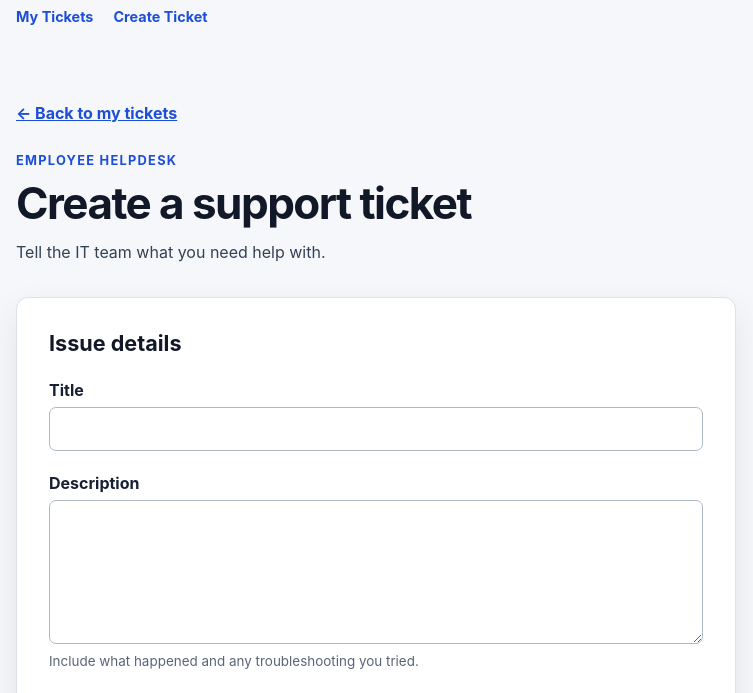
Test case: employee ticket creation › sends the expected payload and displays the successful result
Type "VPN unavailable" into the field labelled "Title".
click(376, 430); type("VPN unavailable")  # box [49, 408, 703, 452]
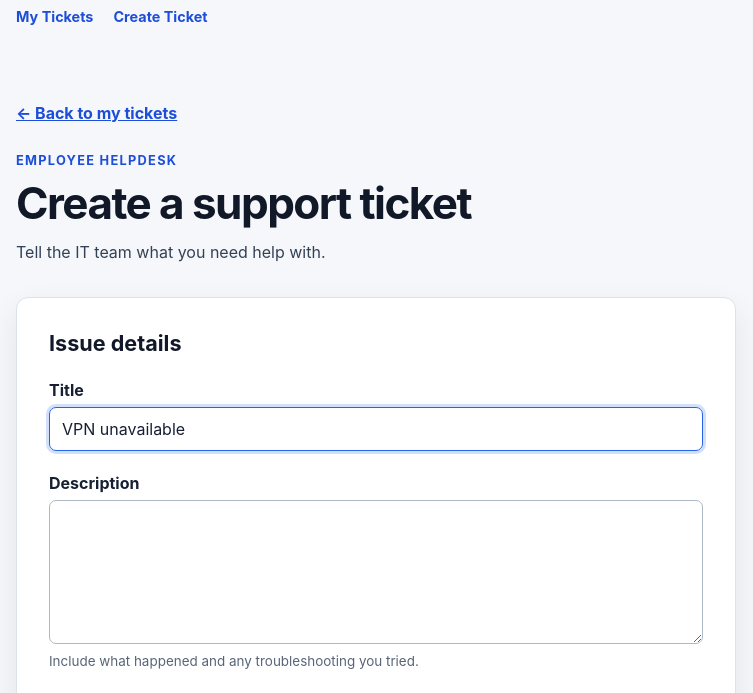
Type "The VPN client times out." into the text box labelled "Description".
click(376, 572); type("The VPN client times out.")  # box [49, 500, 703, 644]
(page scrolled)
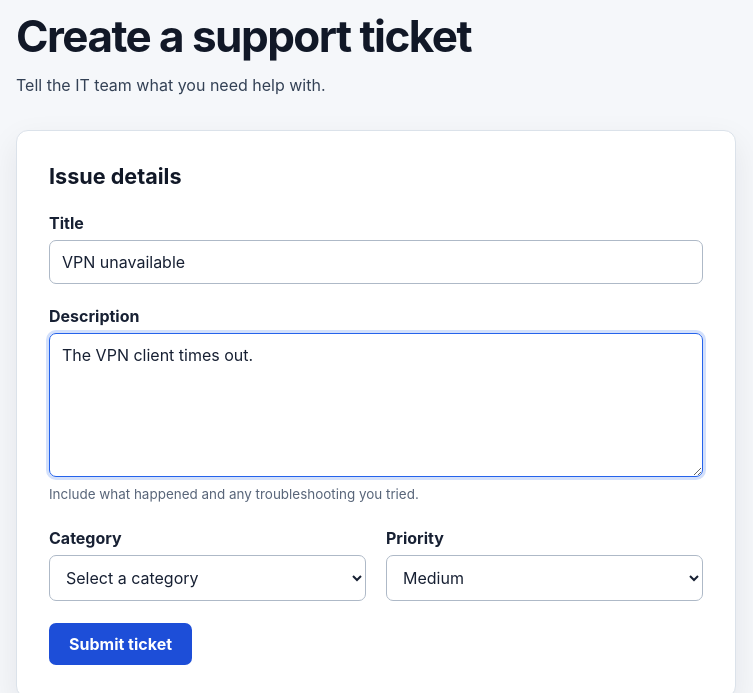
Select "Network" in the dropdown labelled "Category" at (208, 578), box [49, 555, 366, 601]
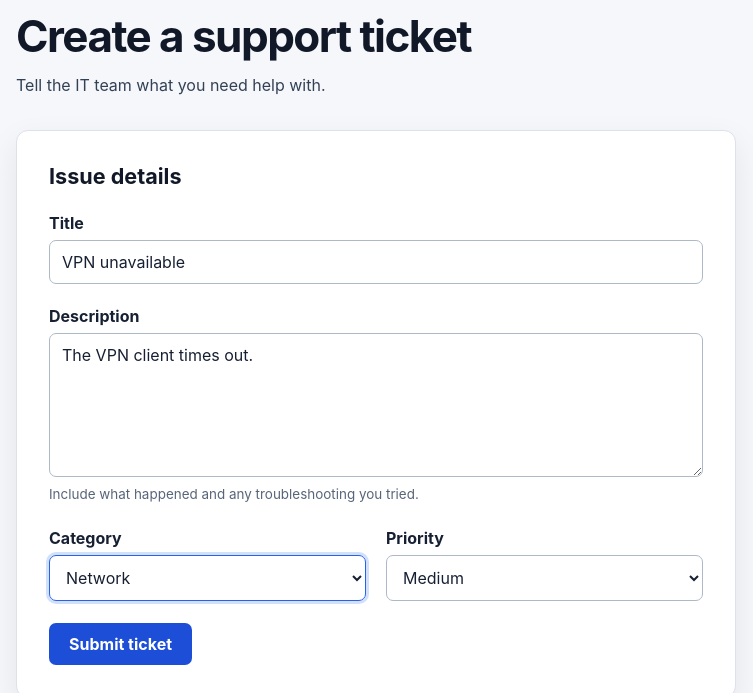
Select "High" in the dropdown labelled "Priority" at (544, 578), box [386, 555, 703, 601]
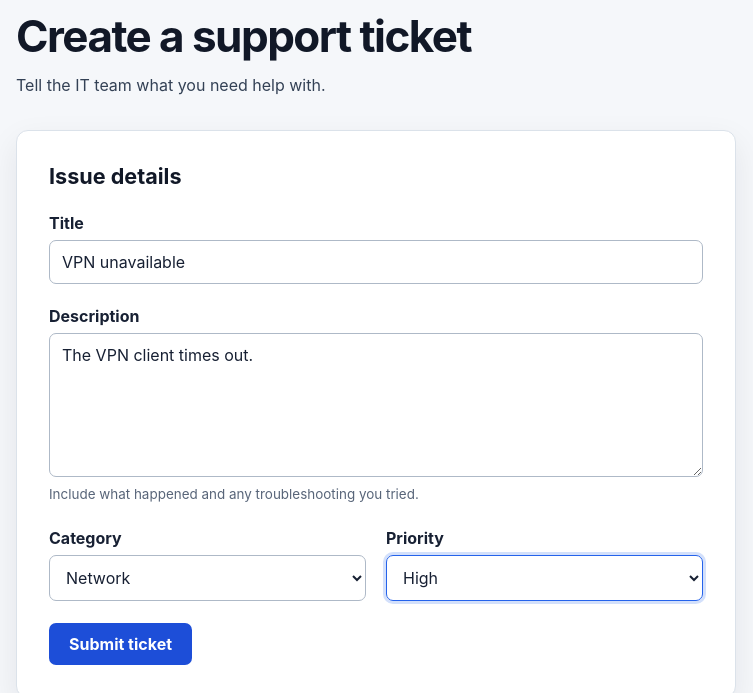
Click the button "Submit ticket".
click(120, 644)  # box [49, 623, 192, 665]
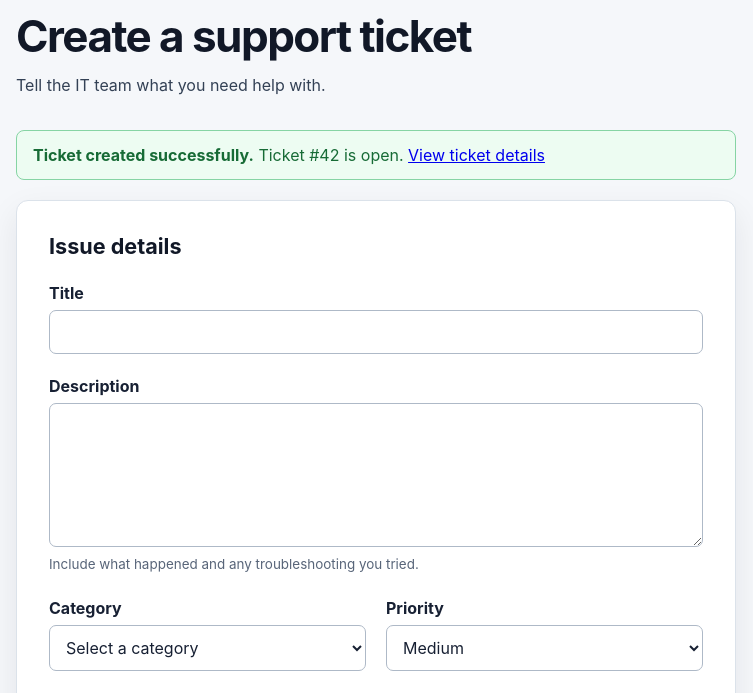
Now the text "Ticket #42 is open." is shown, box [254, 146, 404, 166]
Now the field labelled "Title" is empty, box [49, 310, 703, 354]
